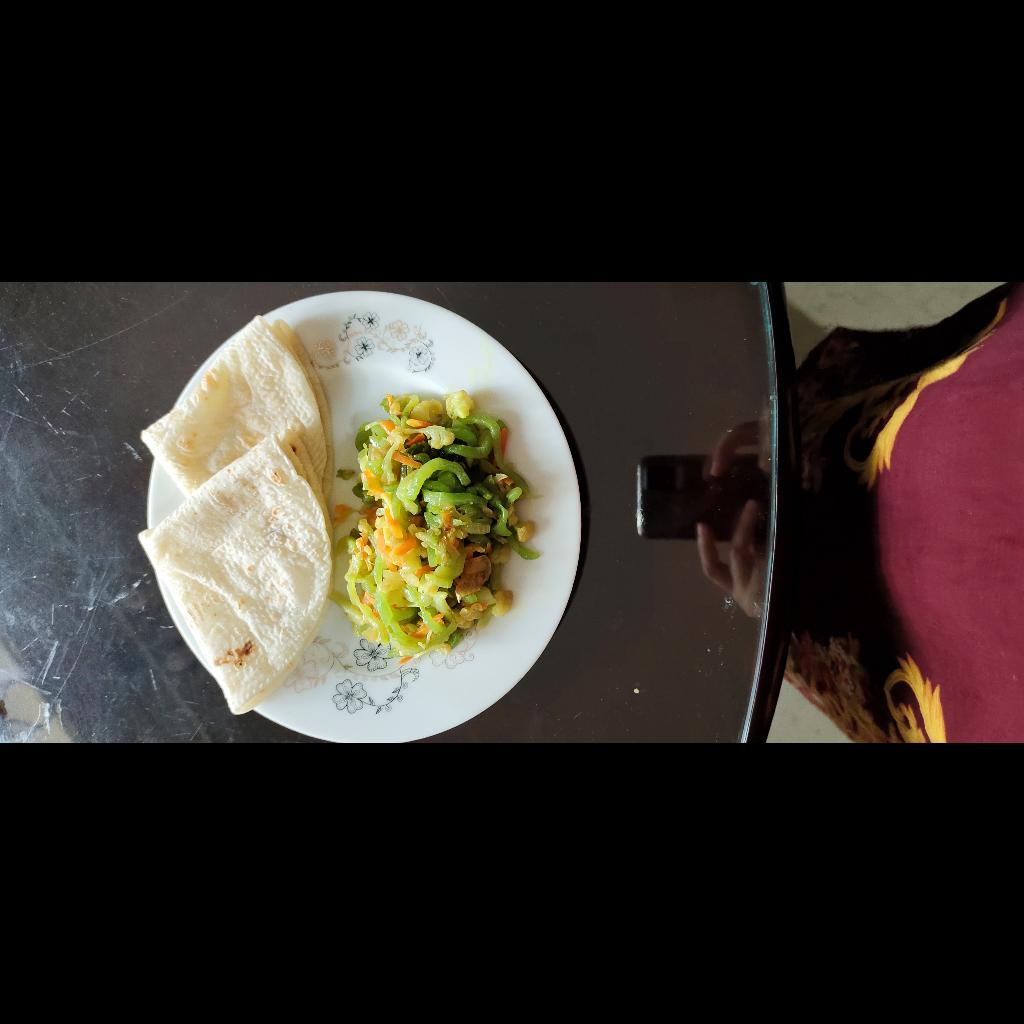chichinga-vaji: (86, 607, 351, 827)
ruti: (19, 415, 424, 612)
